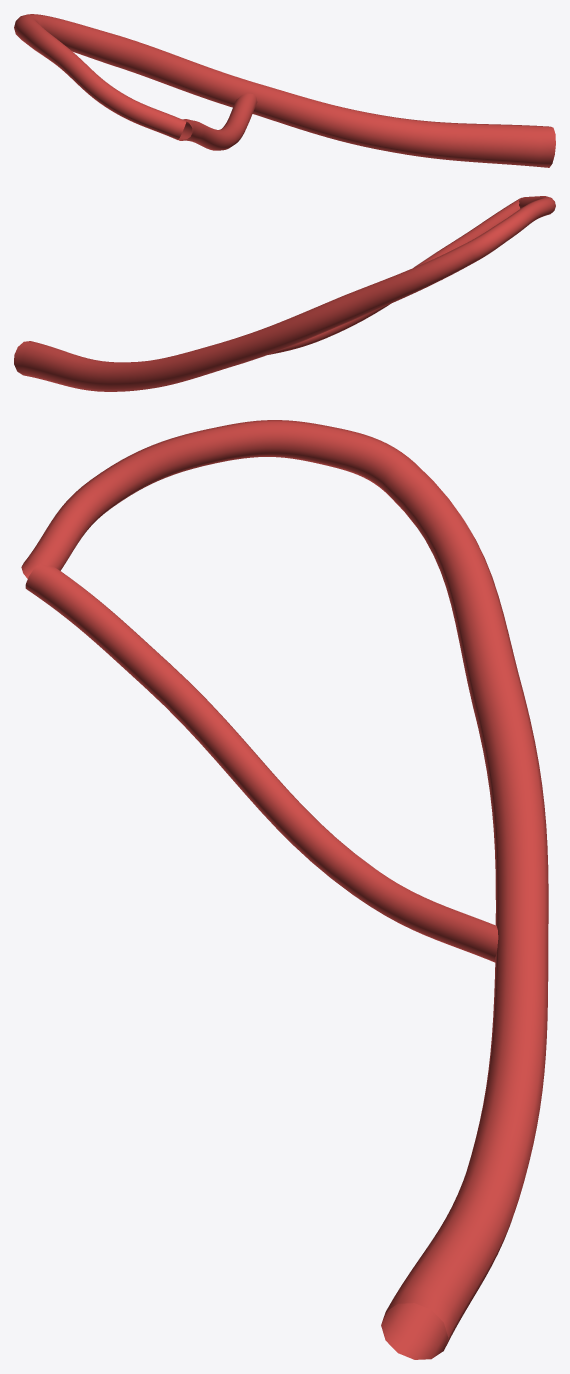
3 views of the same model, one above another, from view 1: azimuth 30°, elevation 25°; view 2: azimuth 150°, elevation 25°; view 3: azimuth 270°, elevation 25° (orthographic). The views are drawn at different scales.
Parts seen in each view (by area): view 1: 右结肠动脉; view 2: 右结肠动脉; view 3: 右结肠动脉.
Part boxes in pixels (bbox=[...]): 右结肠动脉: bbox=[14, 14, 555, 167]; 右结肠动脉: bbox=[14, 196, 555, 391]; 右结肠动脉: bbox=[21, 420, 548, 1359].
Size of the model in its own units: 0.091 by 0.0457 by 0.0441.
